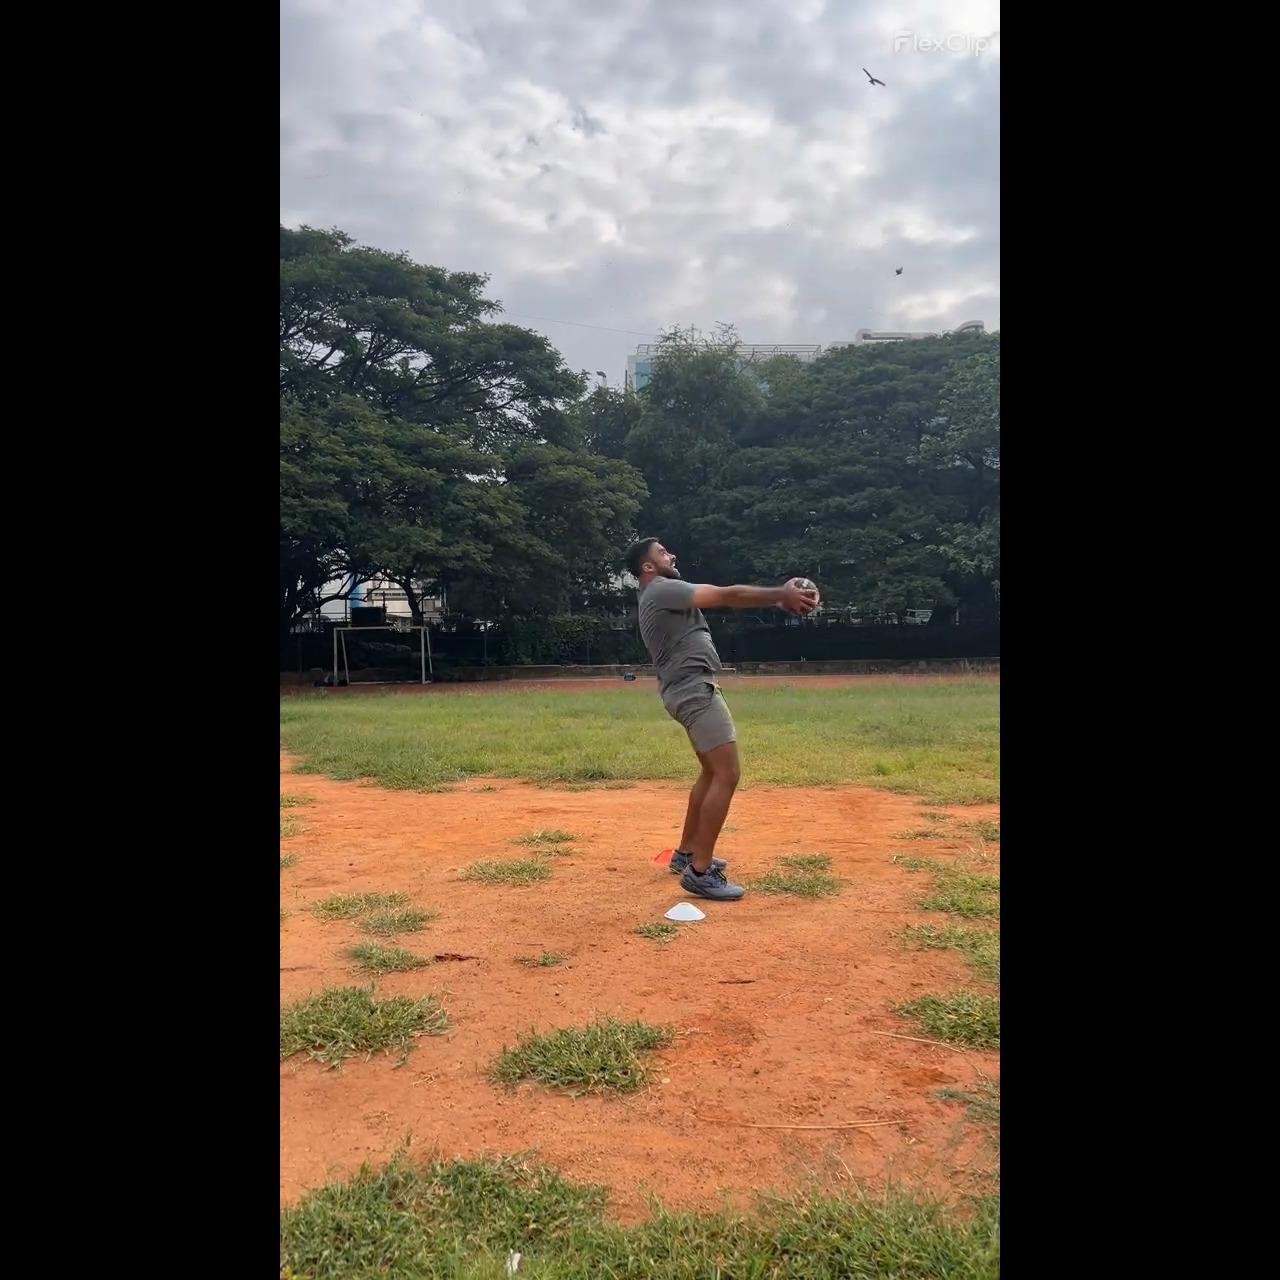Athelete: (624, 538, 815, 903)
